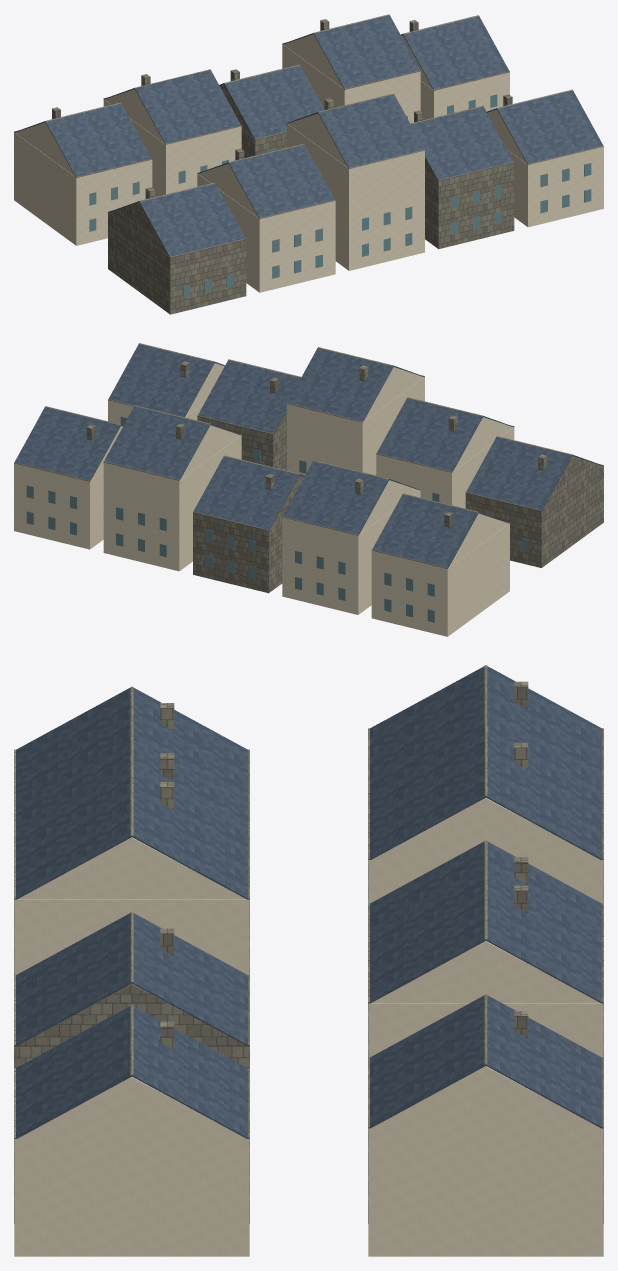
Rendered from Furn_Town_Block.fbx.
The picture shows the model from 3 angles, top to bottom: view 1: azimuth 30°, elevation 25°; view 2: azimuth 150°, elevation 25°; view 3: azimuth 270°, elevation 25°; orthographic projection. The views are drawn at different scales.
Parts seen in each view (by area): view 1: Furn_Town_Block_Mesh; view 2: Furn_Town_Block_Mesh; view 3: Furn_Town_Block_Mesh.
Boxes of the visible parts, x1,y1,x2,y2 form: Furn_Town_Block_Mesh: (14, 14, 603, 314); Furn_Town_Block_Mesh: (14, 343, 603, 636); Furn_Town_Block_Mesh: (14, 665, 603, 1256).
Bounding box in the file's own units: 40 × 12 × 25.
